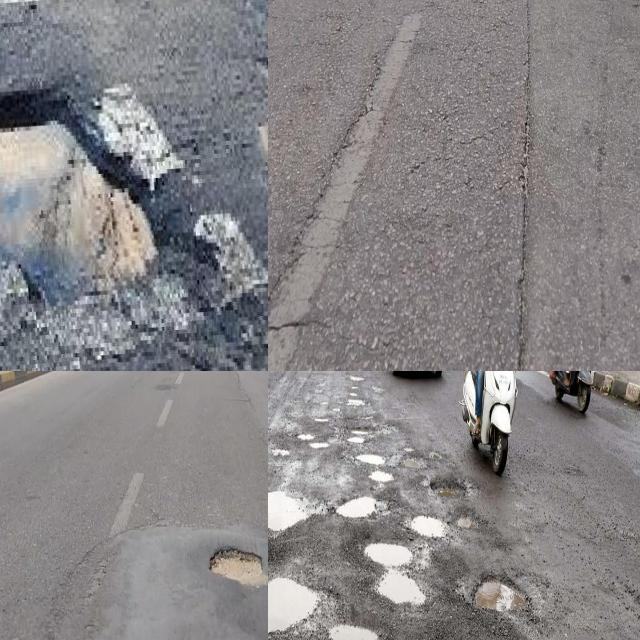Pothole: (0, 86, 185, 328), (364, 544, 426, 607), (268, 579, 322, 632), (208, 544, 265, 590), (268, 496, 324, 533), (474, 582, 518, 613), (330, 495, 386, 519), (356, 452, 394, 483), (407, 517, 448, 541), (331, 626, 378, 640)
